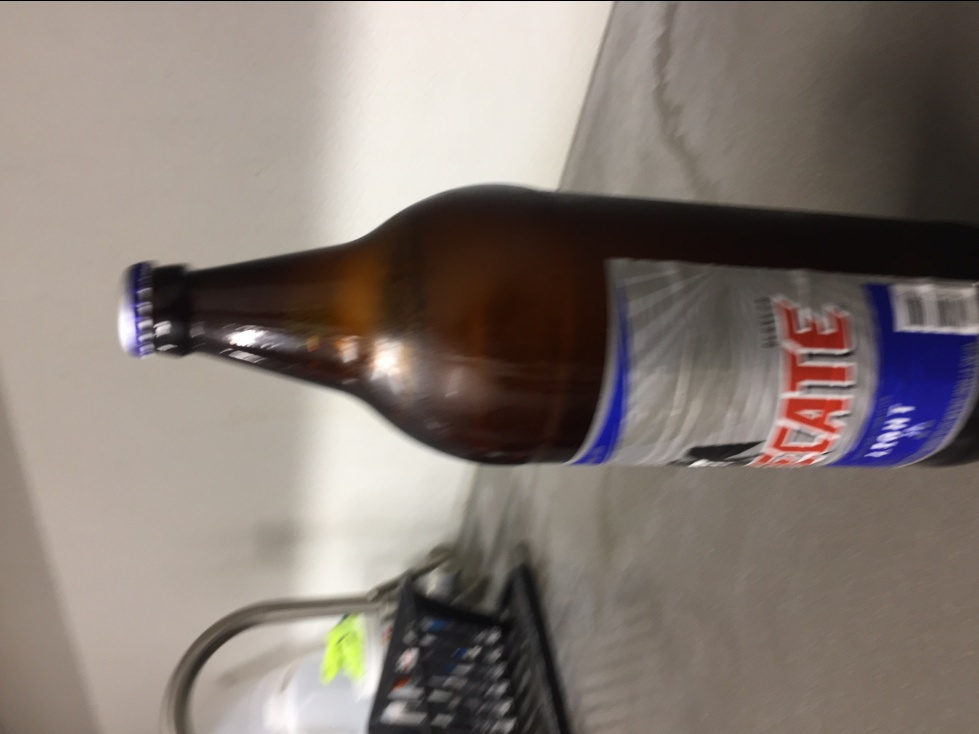tecateC: (114, 180, 979, 474)
